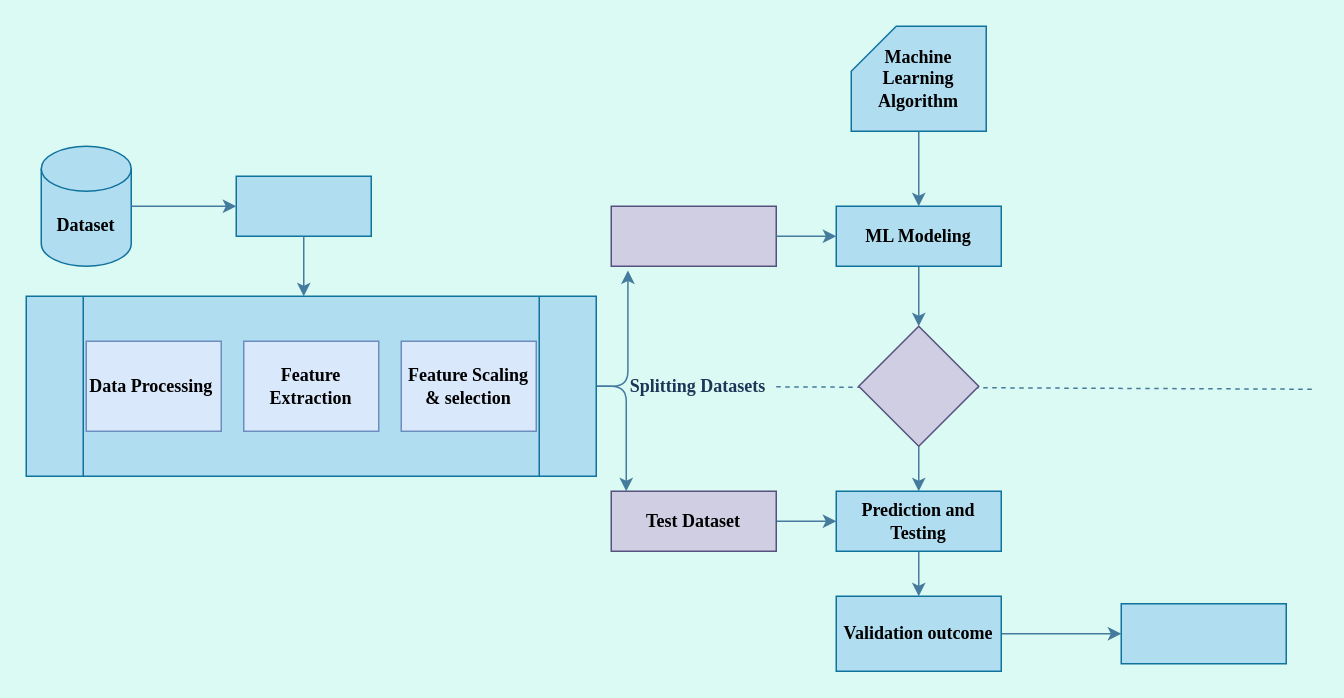
This 1344x698 diagram has some shape labels left out. The centre of each missing label's shape, as x and y in pixels:
"Compare Different models accuracy" goes at (1203,633).
"Data retrieval" goes at (303,205).
"Machine Evaluation & Tuning" goes at (918,385).
"Training Dataset" goes at (693,235).
